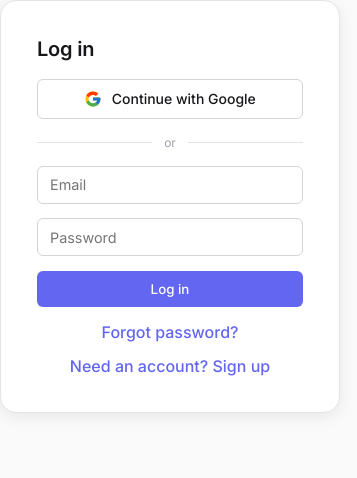
Test: LoginForm › shows the backend error message on failed login
Step 1. Type "alice@example.com" into the field with placeholder "Email" → (170, 185), box [37,166,303,204]
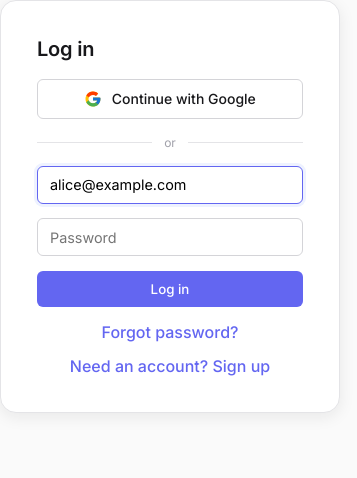
Step 2. Type "wrong-password" into the password field with placeholder "Password" → (170, 237), box [37,218,303,256]
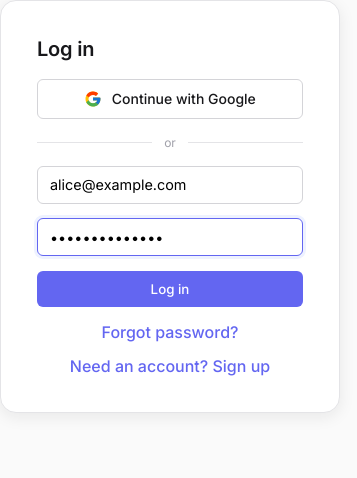
Step 3. Click the button "Log in" → click(170, 289), box [37,271,303,308]
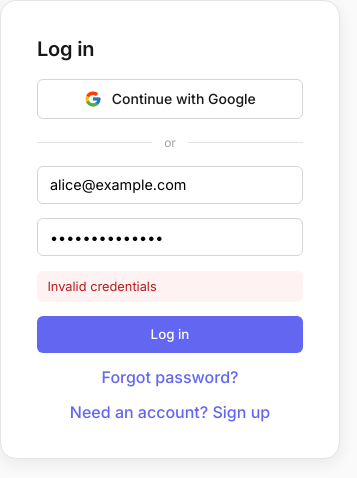
Check: the text "Invalid credentials" is shown, box [37,271,303,302]
